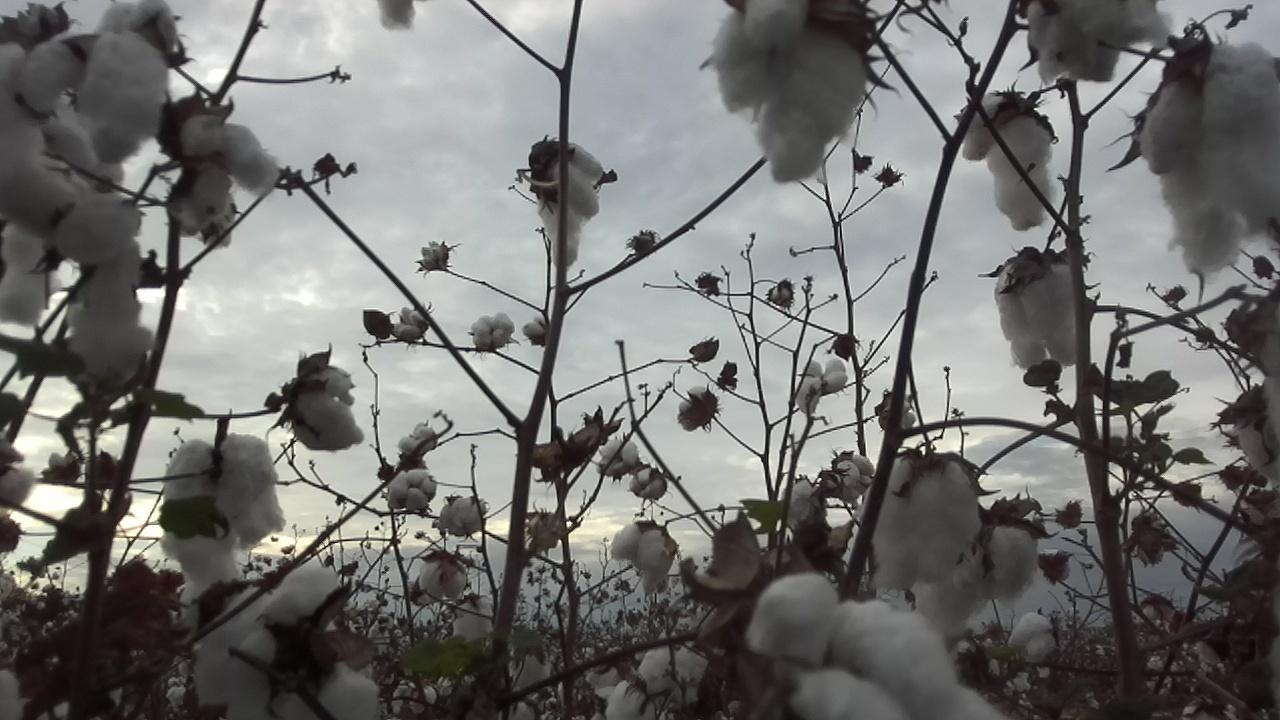cotton_ready: (747, 574, 1014, 720), (0, 160, 152, 381), (1140, 44, 1280, 275), (716, 0, 865, 184), (19, 0, 172, 162), (232, 562, 377, 720), (164, 430, 282, 603), (0, 39, 125, 190), (868, 457, 979, 590), (913, 524, 1039, 638), (961, 89, 1059, 233), (175, 110, 282, 230), (1029, 0, 1173, 87), (992, 259, 1092, 369), (194, 583, 277, 710), (604, 645, 710, 720), (539, 142, 603, 263), (0, 222, 64, 325), (291, 365, 364, 452), (608, 522, 674, 594), (797, 359, 849, 410), (0, 434, 32, 507), (413, 562, 469, 601), (385, 471, 439, 510), (379, 0, 417, 30)
